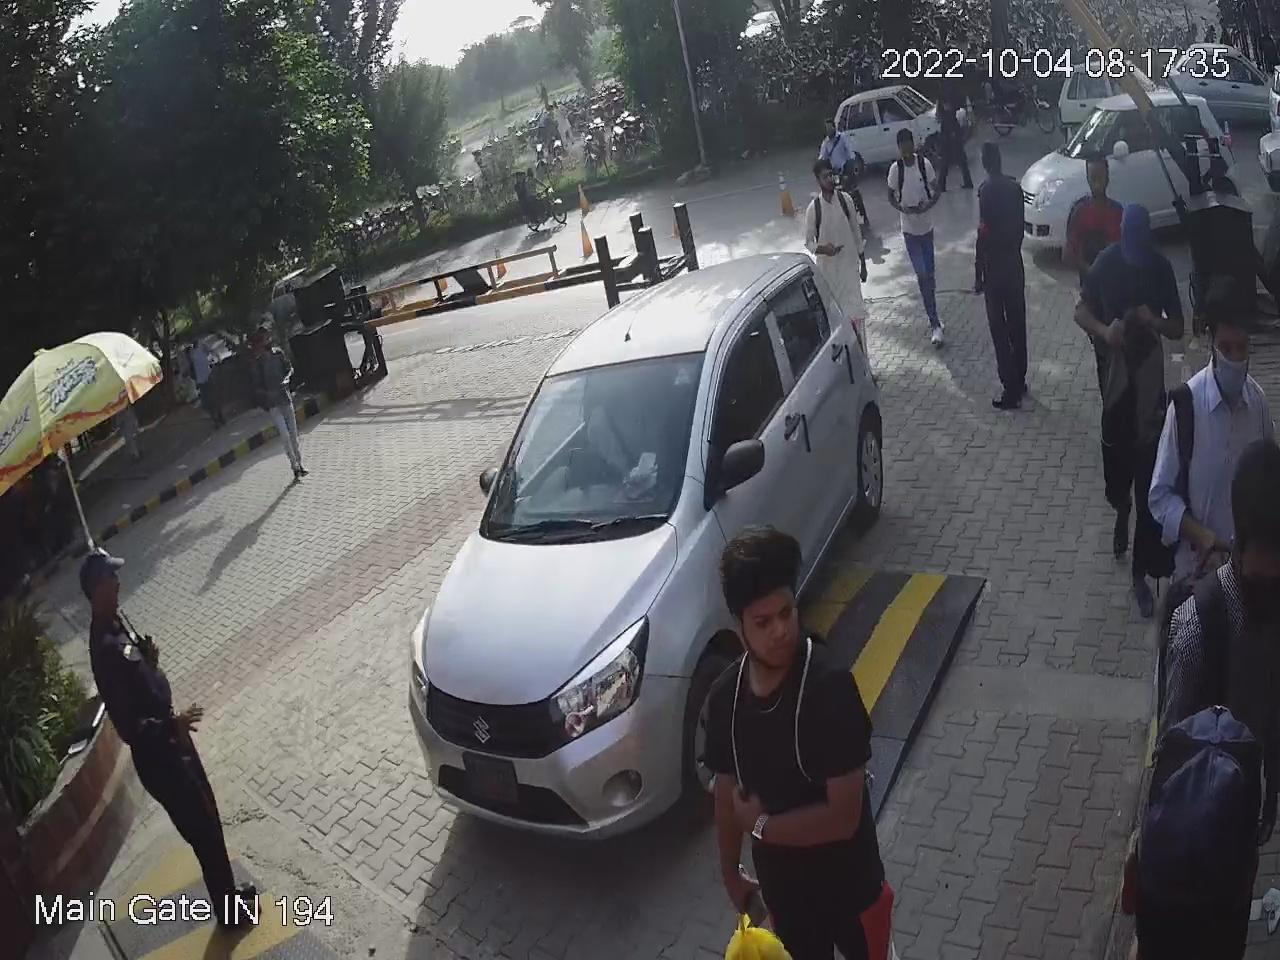windshield: (478, 355, 708, 522)
